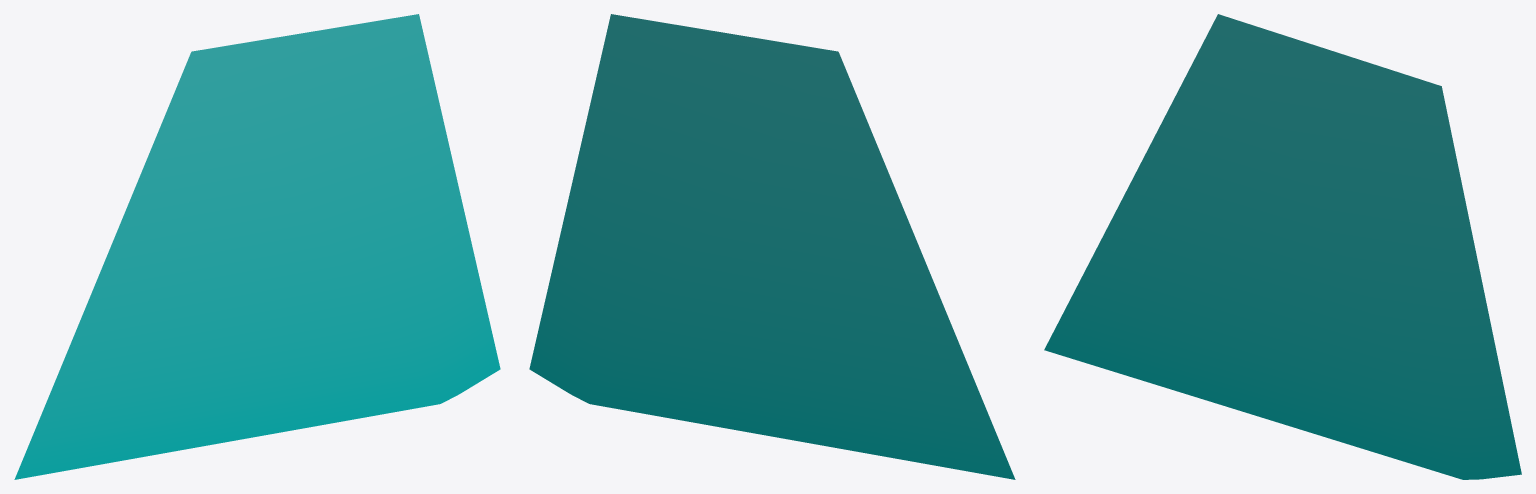
File: Dead_Shrubs_vdknafgha_Low_vdknafgha_VarD_LOD3.fbx
3 views of the same model, side by side, from view 1: azimuth 30°, elevation 25°; view 2: azimuth 150°, elevation 25°; view 3: azimuth 330°, elevation 25° (orthographic).
Parts seen in each view (by area): view 1: _z6f6_VarD_LOD4; view 2: _z6f6_VarD_LOD4; view 3: _z6f6_VarD_LOD4.
Part boxes in pixels (<box>): _z6f6_VarD_LOD4: <box>14,14,500,479</box>; _z6f6_VarD_LOD4: <box>529,14,1015,479</box>; _z6f6_VarD_LOD4: <box>1044,14,1521,479</box>.
Bounding box in the file's own units: 42.5 × 34.51 × 0.
